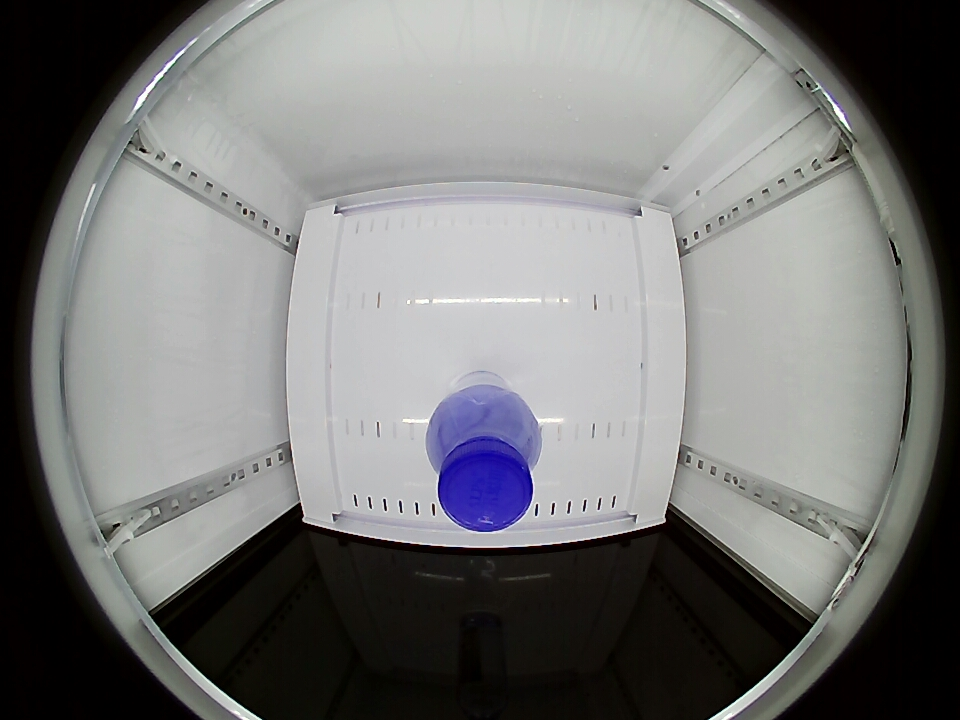aerbeisi: (427, 395, 540, 532)
